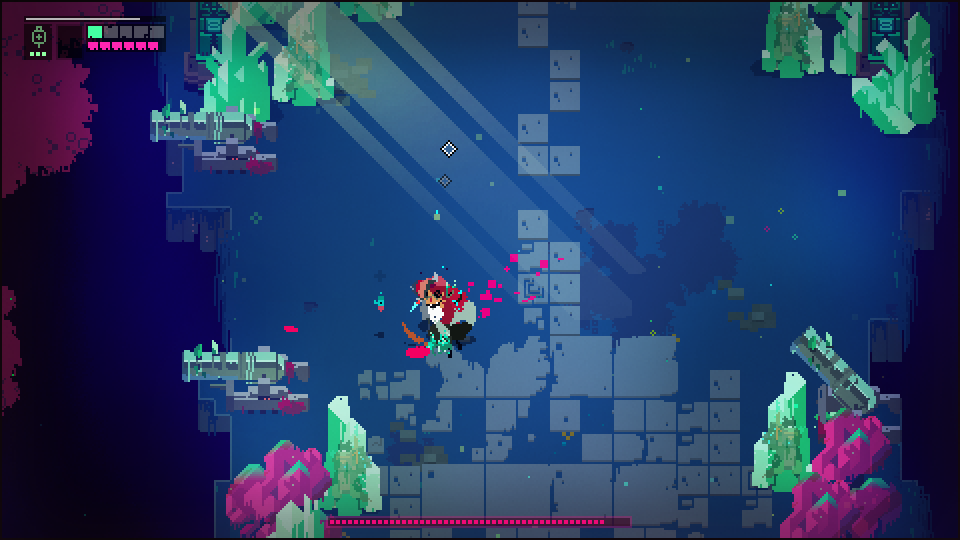hanged_man: (401, 279, 478, 355)
